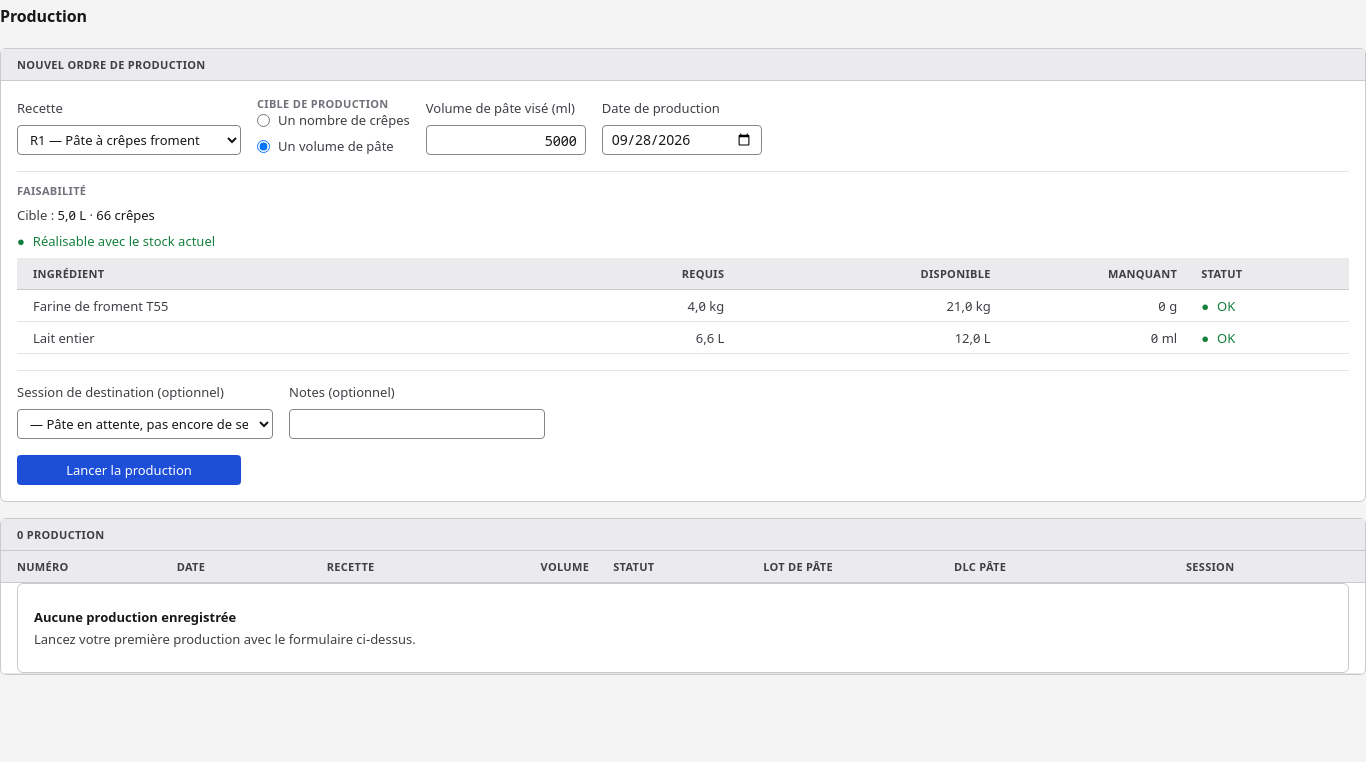
Production — lancer une production › envoie la cible, la date et la session choisie, puis ouvre le détail de la production créée
Expected: the dropdown labelled "Recette" is shown, [17, 125, 241, 155]
Expected: the table that starts with "Ingrédient" is shown, [17, 258, 1349, 354]
Step 1. Select "SM-2026-0002 — 02/08/2026 — La Batte" in the dropdown labelled "Session de destination (optionnel)" → (145, 424), box [17, 409, 273, 439]
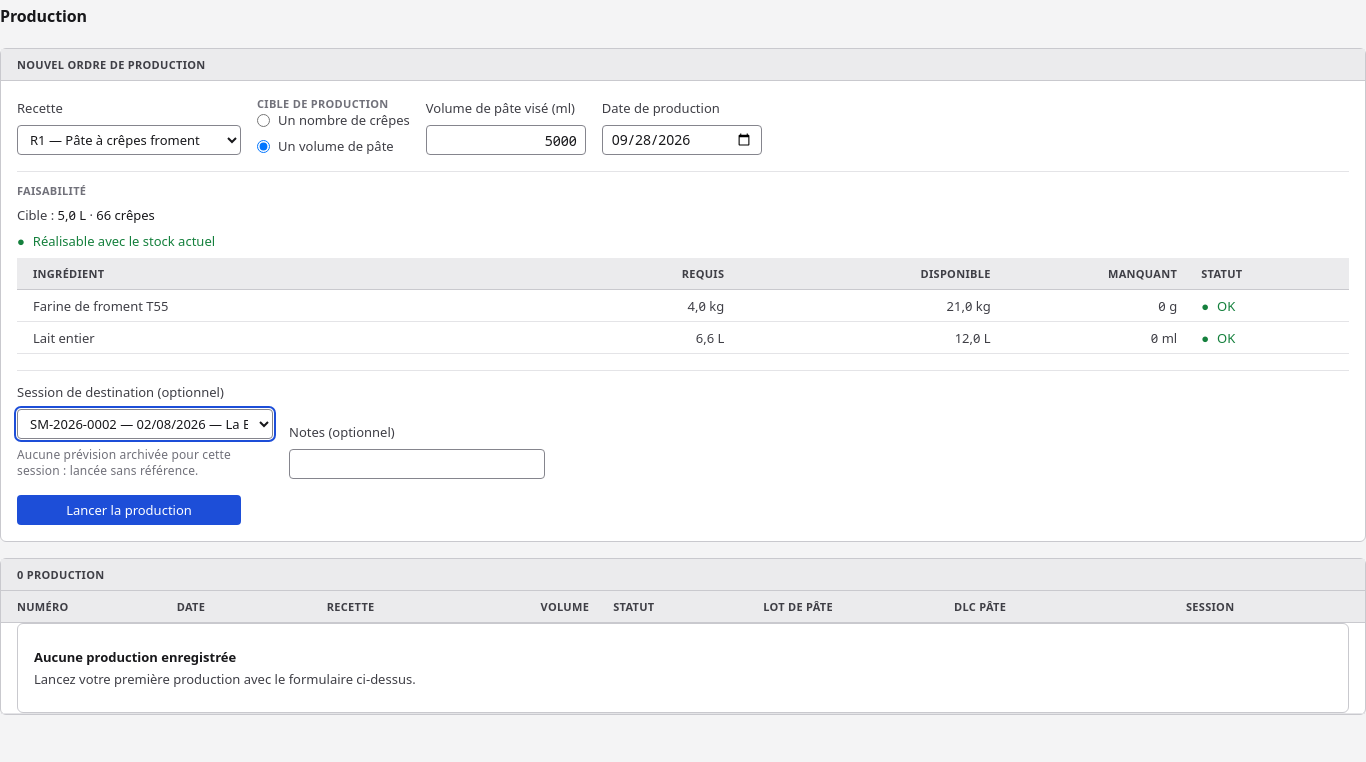
Step 2. Click the button "Lancer la production" → (129, 510), box [17, 495, 241, 525]
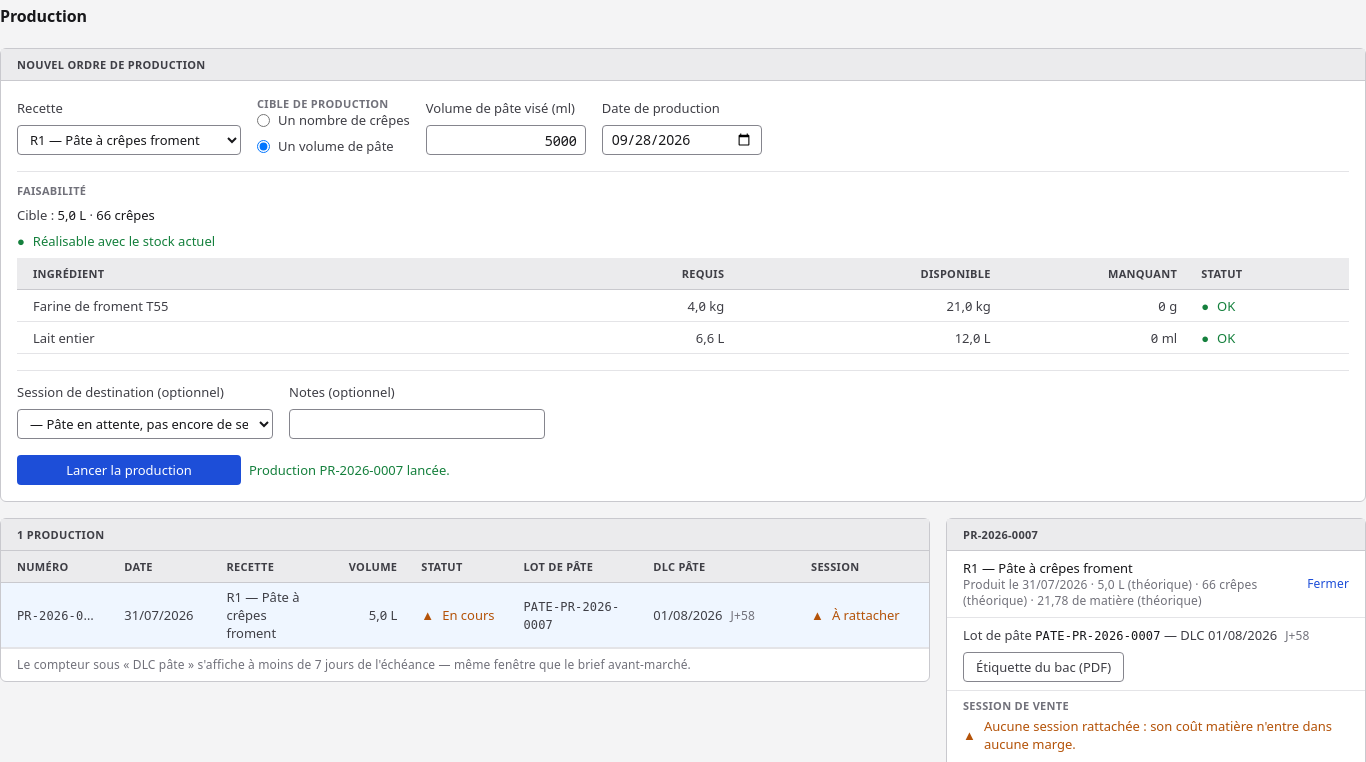
Expected: the text "Production PR-2026-0007 lancée." is shown, [249, 461, 450, 479]
